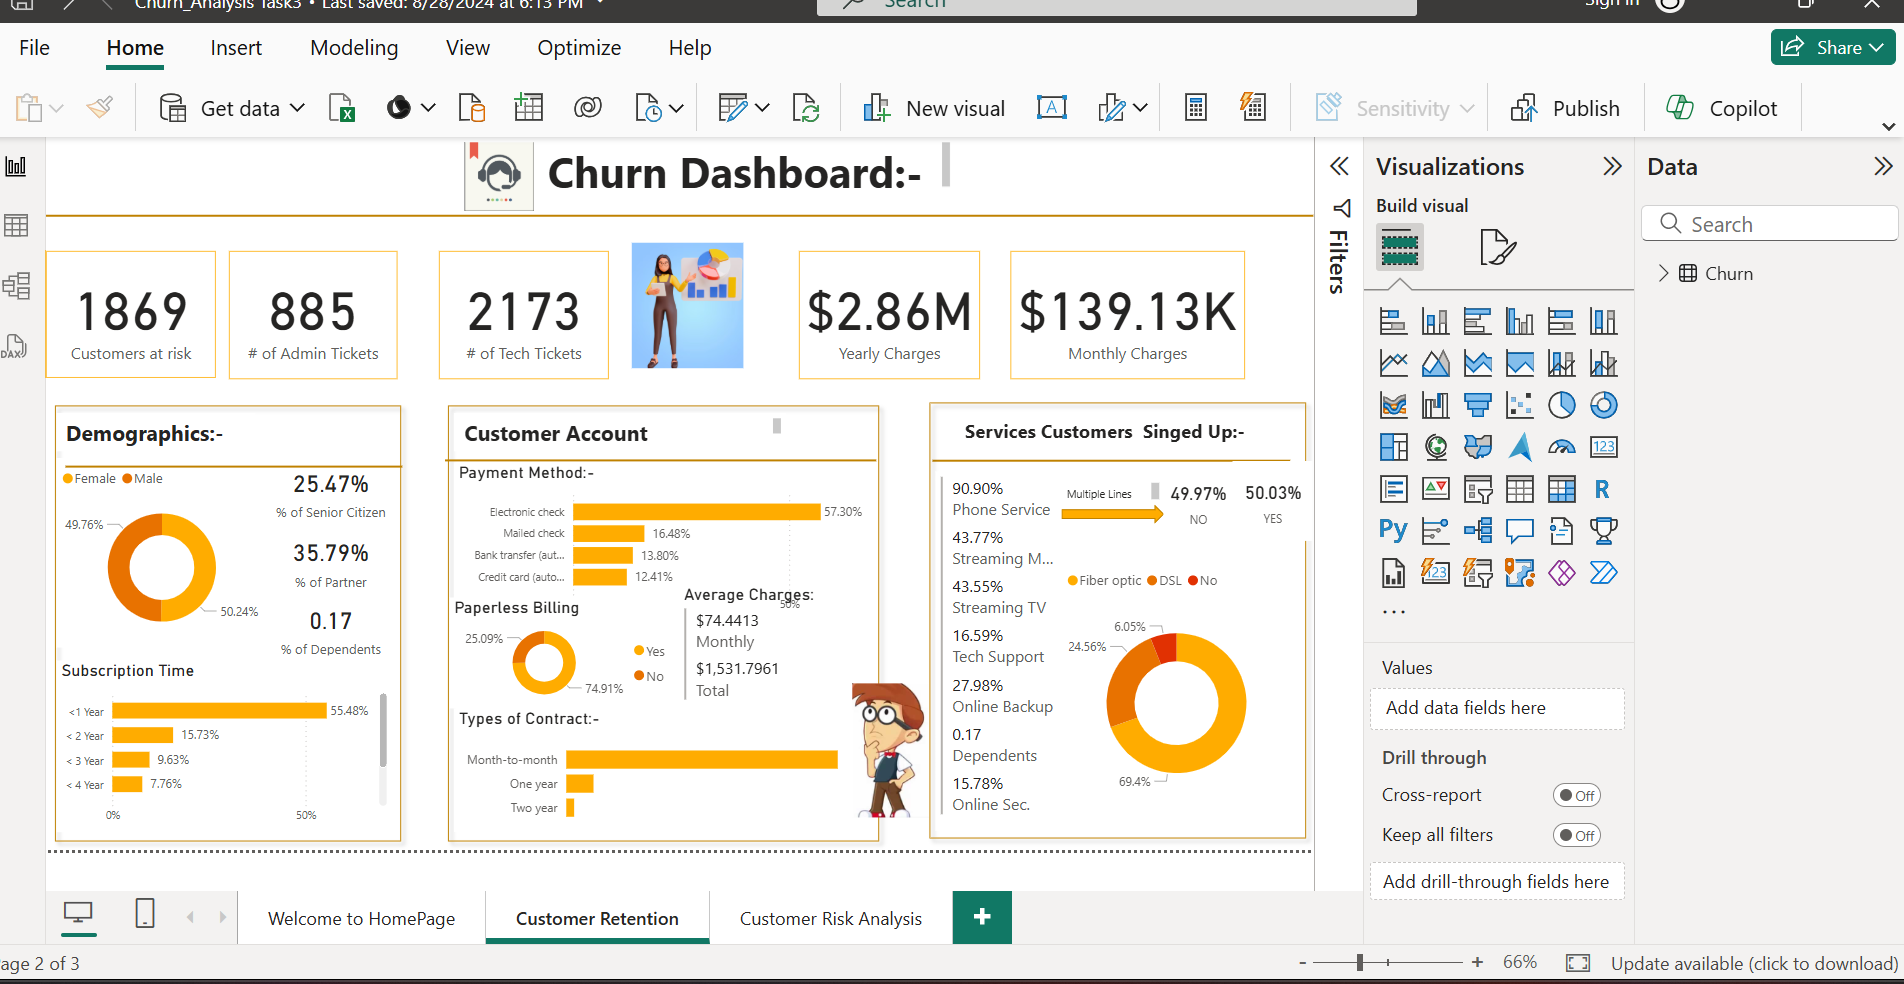

The page's visual inventory and layout, read from the dashboard file:
{"tool":"powerbi","page":{"name":"Page 2","canvas":[1280,720],"ordinal":1},"visuals":[{"type":"textbox","box":[501.2,0,416.4,60.6],"z":0},{"type":"shape","box":[0,60.6,1279.5,37.9],"z":1},{"type":"card","fields":{"Values":["CountNonNull(01 Churn-Dataset.customerID)"]},"box":[0,115,171.6,127.9],"z":2},{"type":"card","fields":{"Values":["Sum(01 Churn-Dataset.numTechTickets)"]},"box":[396.7,115,171.6,129.5],"z":3},{"type":"card","fields":{"Values":["Sum(01 Churn-Dataset.MonthlyCharges)"]},"box":[973.2,115,236.4,129.5],"z":5},{"type":"card","fields":{"Values":["Sum(01 Churn-Dataset.TotalCharges)"]},"box":[759.4,115,183,129.5],"z":6},{"type":"card","fields":{"Values":["Sum(01 Churn-Dataset.numAdminTickets)"]},"box":[184.6,115,170,129.5],"z":7},{"type":"shape","box":[0,262.3,367.6,458.2],"z":8},{"type":"textbox","box":[11.3,278.5,200.8,38.9],"z":9},{"type":"shape","box":[895.4,319,361.1,14.6],"z":10},{"type":"donutChart","fields":{"Category":["01 Churn-Dataset.gender"],"Y":["CountNonNull(01 Churn-Dataset.gender)"]},"box":[11.3,323.8,212.1,191.1],"z":11},{"type":"card","fields":{"Values":["Churn.% of Senior Citizen"]},"box":[223.5,323.8,126.3,66.4],"z":12},{"type":"card","fields":{"Values":["Churn.% of Partner"]},"box":[223.5,390.2,126.3,72.9],"z":14},{"type":"card","fields":{"Values":["Churn.% of Dependents"]},"box":[223.5,463.1,126.3,64.8],"z":16},{"type":"clusteredBarChart","title":"Subscription Time","fields":{"Y":["CountNonNull(Churn.Churn)"],"Category":["Churn.Tenure[In year]"]},"box":[11.3,527.9,338.4,173.3],"z":17},{"type":"shape","box":[396.7,262.3,453.4,458.2],"z":18},{"type":"shape","box":[882.5,259.1,398.3,458.2],"z":19},{"type":"textbox","box":[411.3,278.5,335.2,38.9],"z":20},{"type":"shape","box":[403.2,323.8,435.6,4.9],"z":21},{"type":"clusteredBarChart","title":"Payment Method:-","fields":{"Category":["Churn.PaymentMethod"],"Y":["CountNonNull(Churn.PaymentMethod)"]},"box":[411.3,328.7,427.5,160.3],"z":22},{"type":"donutChart","title":"Paperless Billing ","fields":{"Category":["Churn.PaperlessBilling"],"Y":["CountNonNull(Churn.PaperlessBilling)"]},"box":[408,464.7,231.5,111.7],"z":23},{"type":"multiRowCard","title":"Average Charges:","fields":{"Values":["Avg(Churn.MonthlyCharges)","Avg(Churn.TotalCharges)"]},"box":[639.6,451.8,195.9,124.7],"z":24},{"type":"clusteredBarChart","title":"Types of Contract:-","fields":{"Category":["Churn.Contract"],"Y":["CountNonNull(Churn.Contract)"]},"box":[411.3,576.4,427.5,124.7],"z":25},{"type":"multiRowCard","fields":{"Values":["Churn.% Phone Service","Churn.% Streaming Movies","Churn.% Streaming TV","Churn.% Tech Support","Churn.% Online Backup","Churn.% of Dependents","Churn.% Online Sec."]},"box":[898.7,338.4,126.3,362.7],"z":26},{"type":"shape","box":[1025,370.8,103.6,19.4],"z":27},{"type":"textbox","box":[1025,343.3,103.6,27.5],"z":28},{"type":"card","fields":{"Values":["Churn.% NO-Multiple lines"]},"box":[1128.6,328.7,69.6,79.3],"z":29},{"type":"card","fields":{"Values":["Churn.% Yes-Multiple Lines"]},"box":[1198.2,327.1,81,81],"z":30},{"type":"donutChart","title":"Paperless Billing ","fields":{"Category":["Churn.InternetService"],"Y":["CountNonNull(Churn.InternetService)"]},"box":[1025,427.5,231.5,259.1],"z":31},{"type":"image","box":[411.3,0,90.7,79.3],"z":32},{"type":"image","box":[808,537.6,87.4,163.5],"z":33},{"type":"image","box":[586.2,79.3,123.1,183],"z":34},{"type":"shape","box":[19.7,327.4,340,11.3],"z":35},{"type":"textbox","box":[918.1,278.5,338.4,38.9],"z":36}]}

Visuals, with their boxes on the page's 1280x720 design canvas (x1, y1, x2, y2). These are canvas units, not pixel positions in the 1904x984 screenshot, which may show the page scaled, cropped or inside an application window:
textbox: box(501, 0, 918, 61)
shape: box(0, 61, 1280, 98)
card - CountNonNull(01 Churn-Dataset.customerID): box(0, 115, 172, 243)
card - Sum(01 Churn-Dataset.numTechTickets): box(397, 115, 568, 244)
card - Sum(01 Churn-Dataset.MonthlyCharges): box(973, 115, 1210, 244)
card - Sum(01 Churn-Dataset.TotalCharges): box(759, 115, 942, 244)
card - Sum(01 Churn-Dataset.numAdminTickets): box(185, 115, 355, 244)
shape: box(0, 262, 368, 720)
textbox: box(11, 278, 212, 317)
shape: box(895, 319, 1256, 334)
donutChart - 01 Churn-Dataset.gender x CountNonNull(01 Churn-Dataset.gender): box(11, 324, 223, 515)
card - Churn.% of Senior Citizen: box(224, 324, 350, 390)
card - Churn.% of Partner: box(224, 390, 350, 463)
card - Churn.% of Dependents: box(224, 463, 350, 528)
"Subscription Time" clusteredBarChart: box(11, 528, 350, 701)
shape: box(397, 262, 850, 720)
shape: box(882, 259, 1281, 717)
textbox: box(411, 278, 746, 317)
shape: box(403, 324, 839, 329)
"Payment Method:-" clusteredBarChart: box(411, 329, 839, 489)
"Paperless Billing " donutChart: box(408, 465, 640, 576)
"Average Charges:" multiRowCard: box(640, 452, 836, 576)
"Types of Contract:-" clusteredBarChart: box(411, 576, 839, 701)
multiRowCard - Churn.% Phone Service x Churn.% Streaming Movies: box(899, 338, 1025, 701)
shape: box(1025, 371, 1129, 390)
textbox: box(1025, 343, 1129, 371)
card - Churn.% NO-Multiple lines: box(1129, 329, 1198, 408)
card - Churn.% Yes-Multiple Lines: box(1198, 327, 1279, 408)
"Paperless Billing " donutChart: box(1025, 428, 1256, 687)
image: box(411, 0, 502, 79)
image: box(808, 538, 895, 701)
image: box(586, 79, 709, 262)
shape: box(20, 327, 360, 339)
textbox: box(918, 278, 1256, 317)
